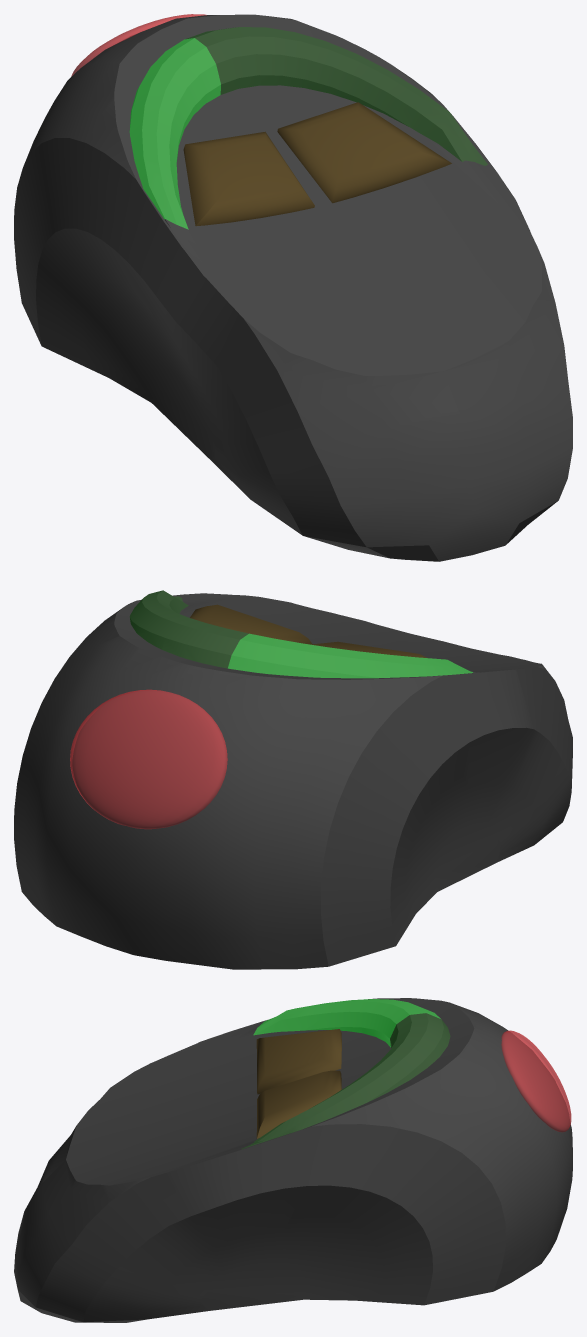
The model's file is sta-sarelle-phaser.glb.
3 renders of one model, top to bottom at view 1: azimuth 30°, elevation 25°; view 2: azimuth 150°, elevation 25°; view 3: azimuth 270°, elevation 25°, orthographic. The views are drawn at different scales.
Visible parts, largest first — view 1: Phaser Body, Button, Button.002, Phase Emitter; view 2: Phaser Body, Phase Emitter, Button, Button.002; view 3: Phaser Body, Button.002, Phase Emitter, Button.
Part boxes in pixels (box(x1,y1,x2,y2)): Phaser Body: box(14, 14, 572, 561); Button: box(277, 102, 451, 203); Button.002: box(183, 131, 314, 226); Phase Emitter: box(71, 14, 206, 76); Phaser Body: box(14, 590, 572, 969); Phase Emitter: box(70, 689, 227, 829); Button: box(190, 604, 312, 644); Button.002: box(310, 641, 427, 657); Phaser Body: box(14, 998, 572, 1322); Button.002: box(256, 1029, 341, 1094); Phase Emitter: box(501, 1030, 571, 1132); Button: box(256, 1070, 341, 1138).
Size of the model in its own units: 0.8 by 0.7507 by 1.37.
